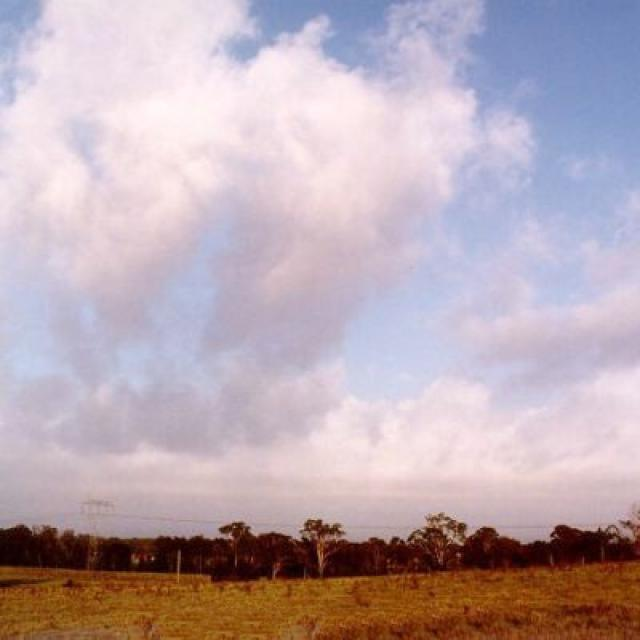Sc: (1, 1, 507, 353)
